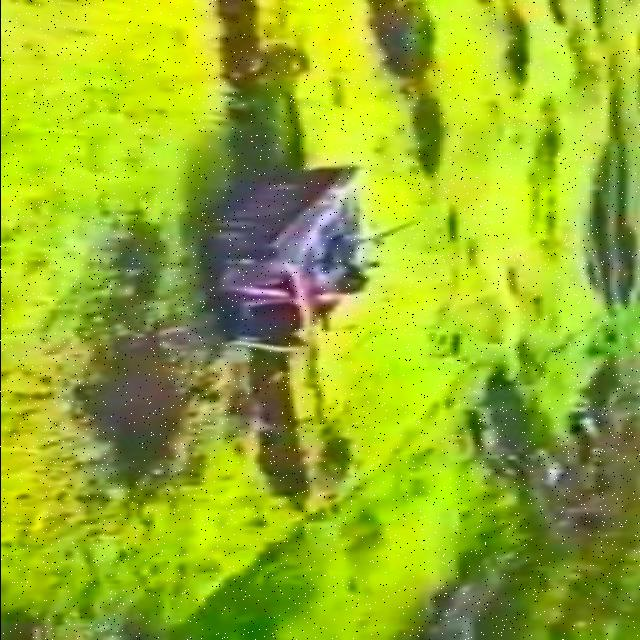APC-IFV: (209, 162, 409, 350)
